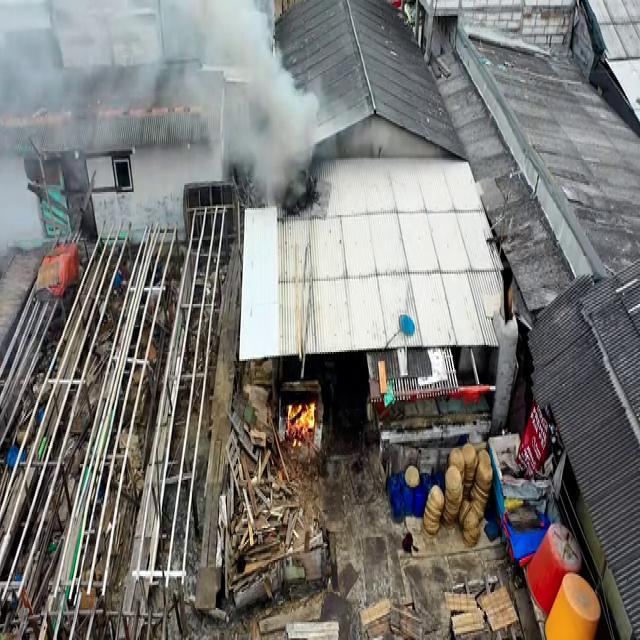smoke: (55, 0, 161, 149), (204, 3, 278, 153), (138, 3, 214, 133), (260, 71, 316, 172), (245, 127, 297, 200)
